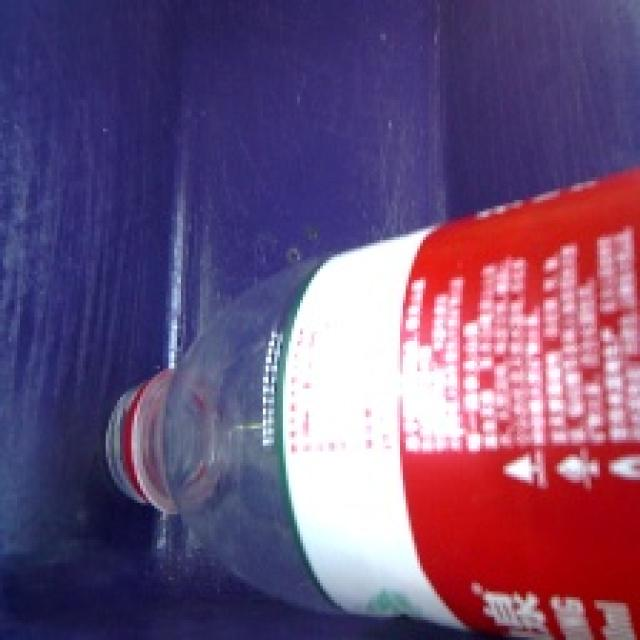plastic: (71, 145, 639, 640)
